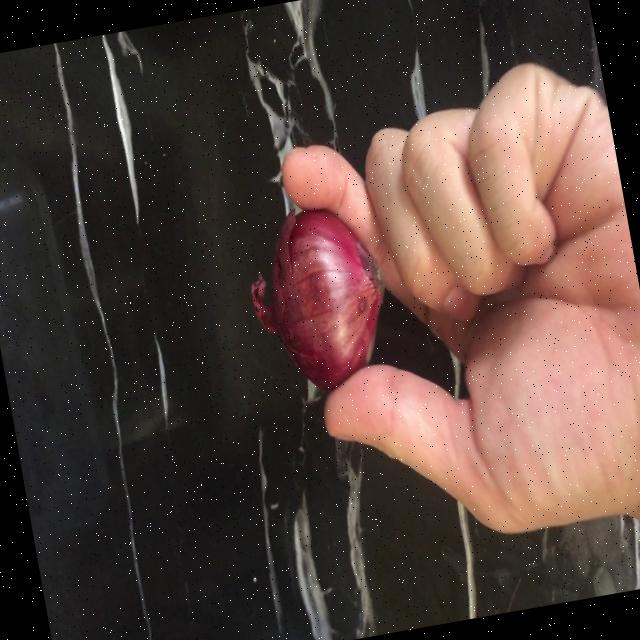Onion: (251, 209, 384, 389)
